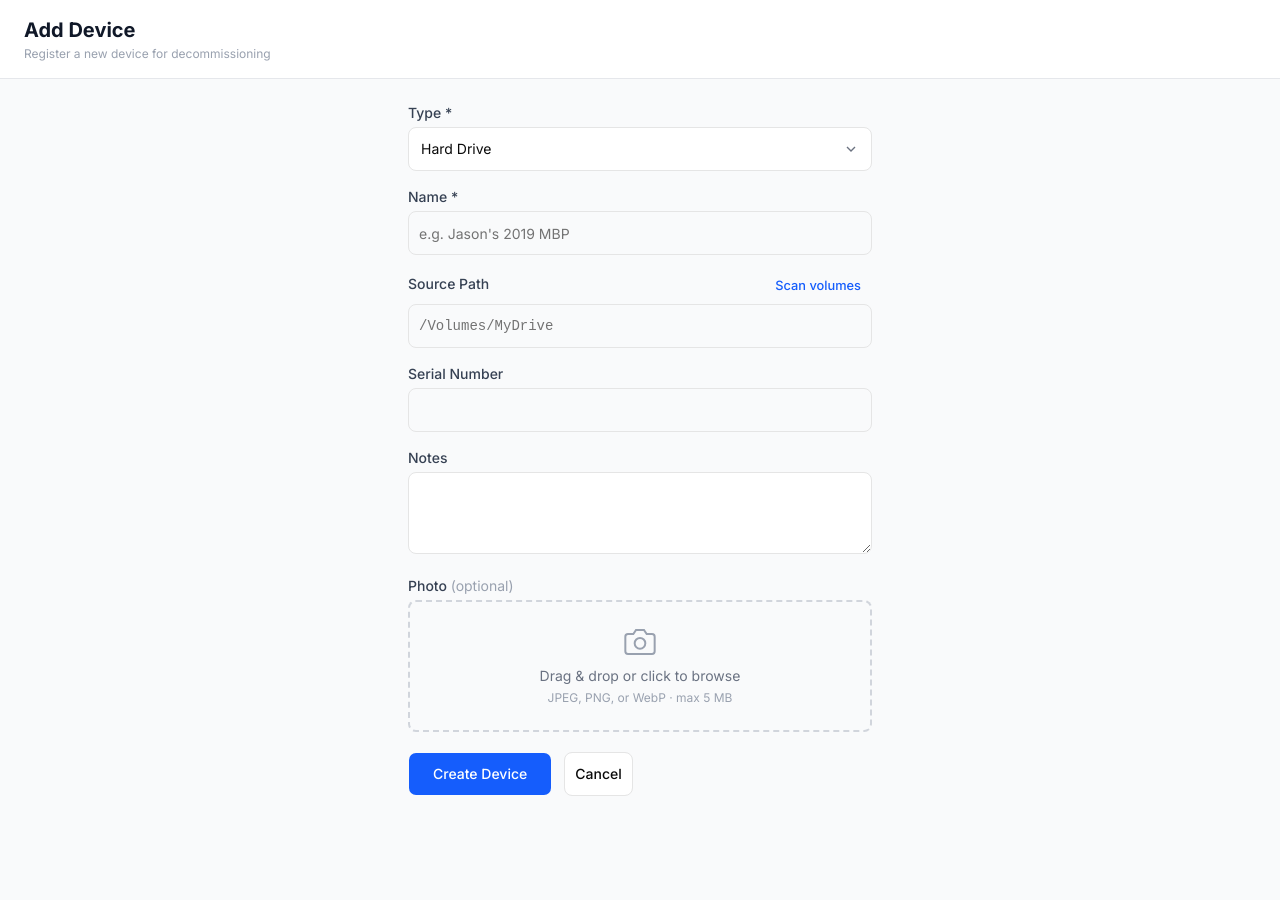
Test case: AddDevice form › shows success badge after detection
Select "iPhone" in the dropdown at coordinates (640, 149), box [408, 127, 872, 171]
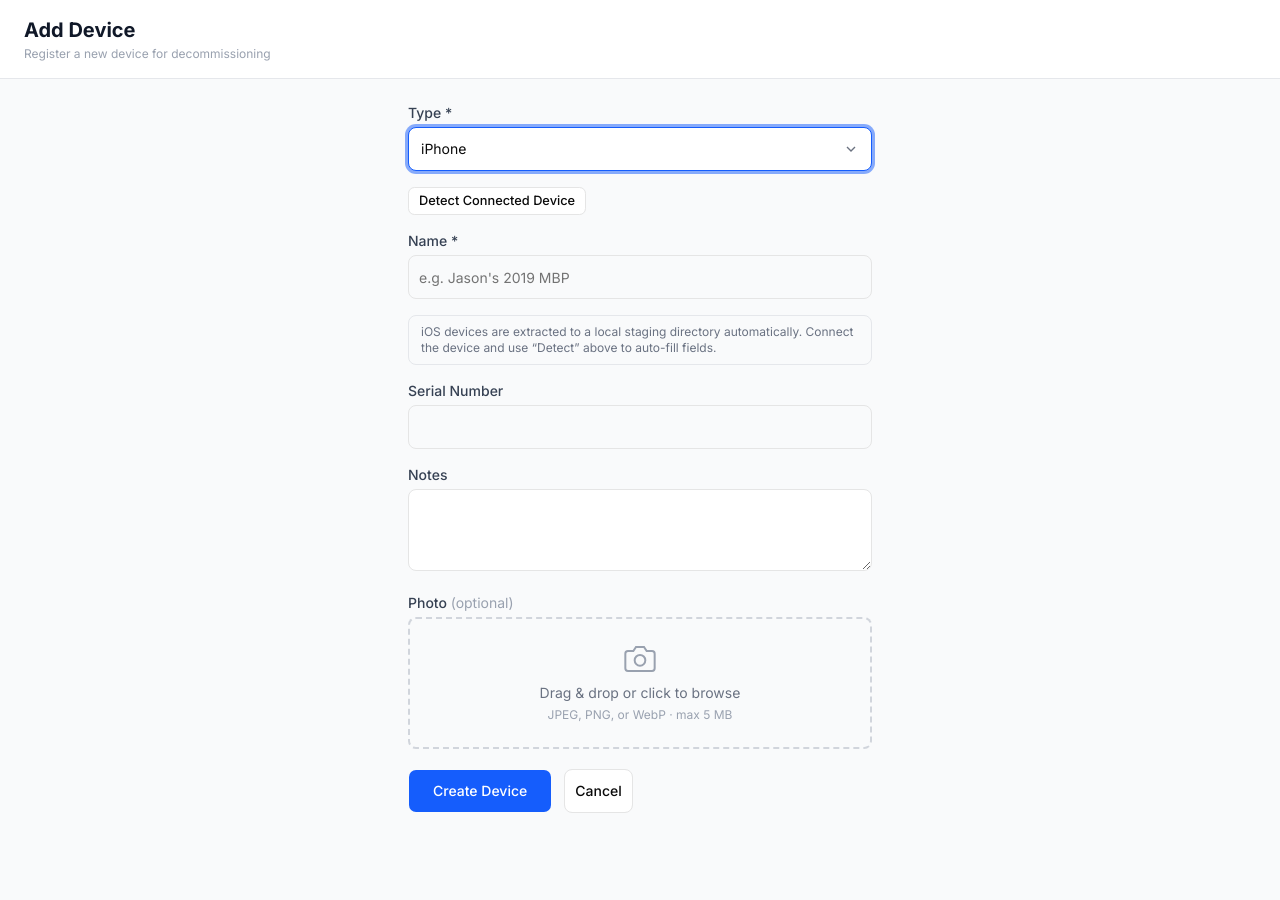
Click the button "Detect Connected Device" at coordinates (497, 201), box [408, 187, 586, 215]
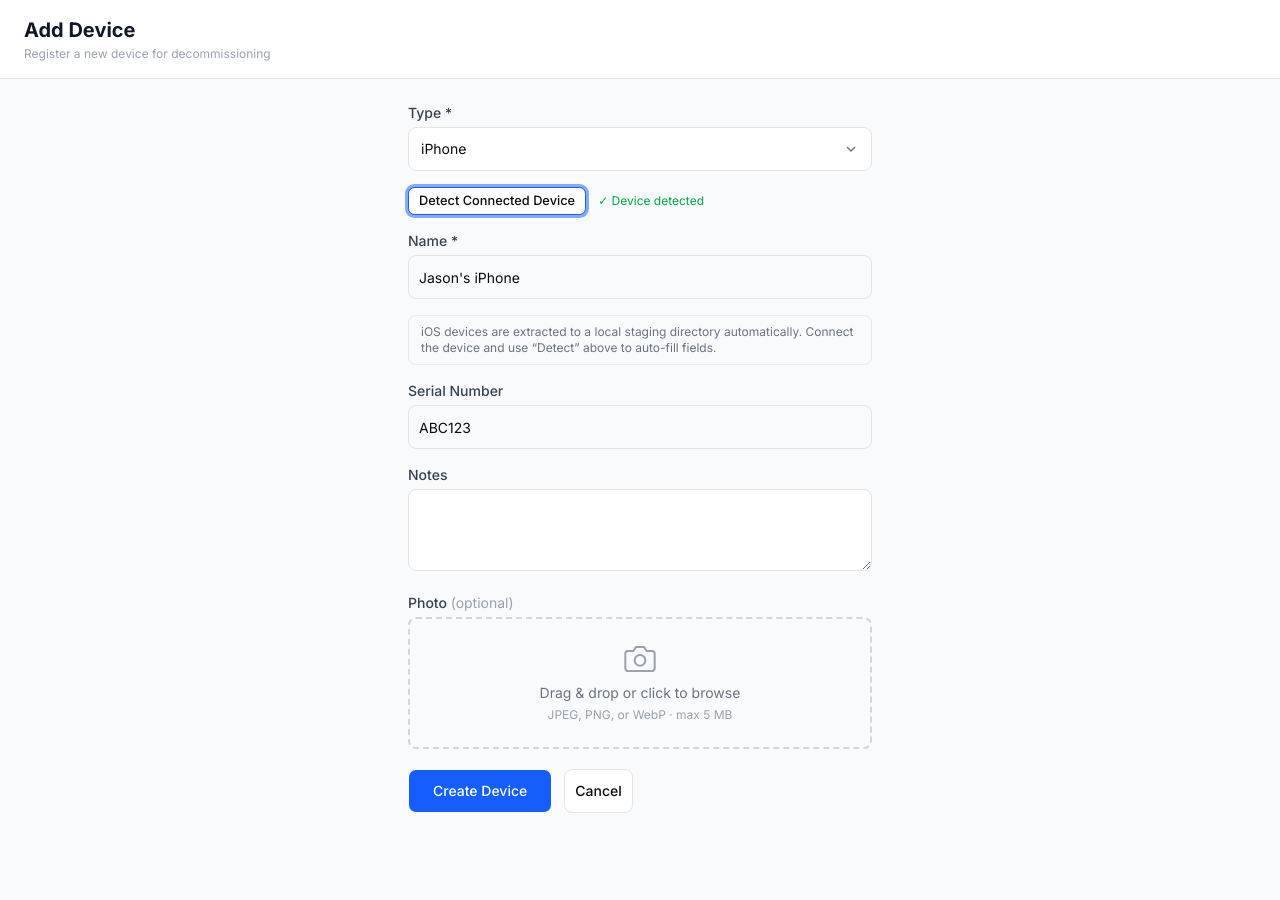
Check: the text "✓ Device detected" is shown, box [598, 193, 704, 209]
